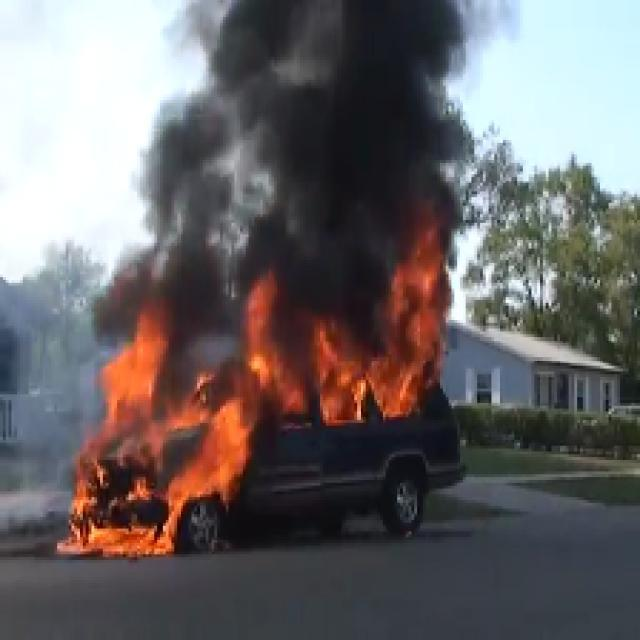Fire: (113, 328, 439, 441), (83, 437, 241, 552)
Smoke: (202, 1, 423, 290)
